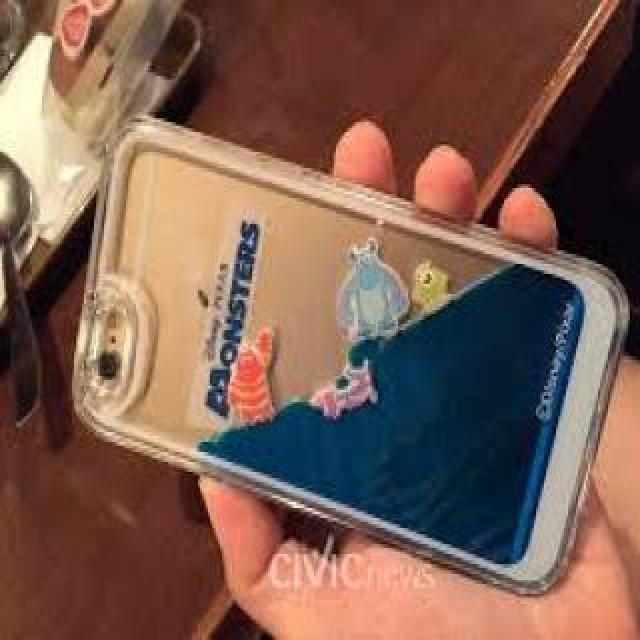smart phone: (50, 94, 640, 600)
